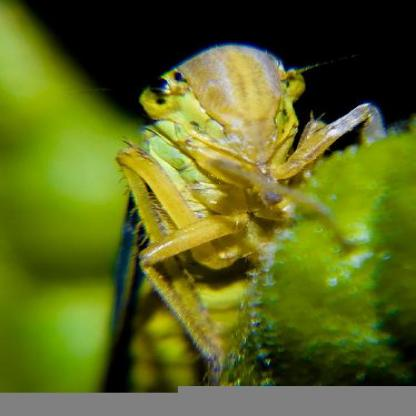Green-Leafhopper: (100, 40, 381, 393)
